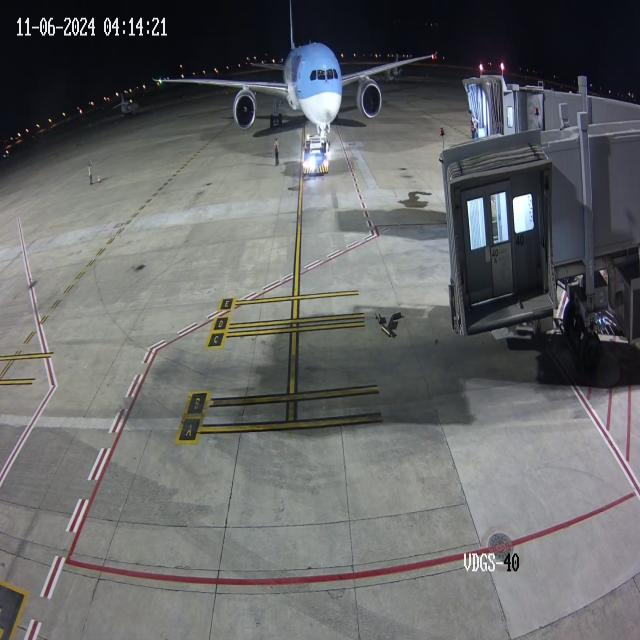plane: (148, 0, 446, 134)
window: (308, 61, 339, 85)
